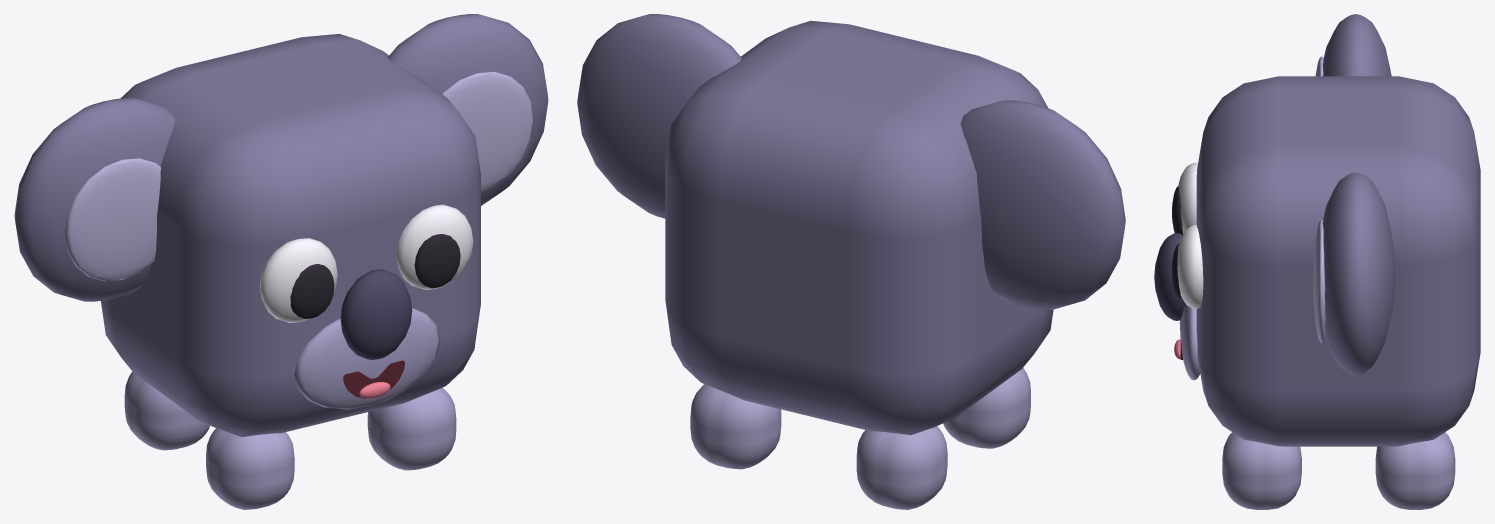
The model's file is pet-koala.glb.
3 views of the same model, side by side, from view 1: azimuth 30°, elevation 25°; view 2: azimuth 150°, elevation 25°; view 3: azimuth 270°, elevation 25° (orthographic). The views are drawn at different scales.
Visible parts, largest first — view 1: body, ear_-1, ear_1, ear_inner_-1, muzzle, ear_inner_1, foot_L_front, foot_R_front, nose, foot_L_back, eye_white_-1, eye_white_1 (+3 smaller); view 2: body, ear_-1, ear_1, foot_L_back, foot_R_back, foot_L_front; view 3: body, ear_1, foot_R_back, foot_R_front, ear_-1, eye_white_1, nose, ear_inner_1, muzzle, eye_white_-1, pupil_-1.
Part boxes in pixels (left/top/right/bottom): body: left=101, top=34, right=480, bottom=436; ear_-1: left=14, top=98, right=175, bottom=301; ear_1: left=387, top=14, right=548, bottom=205; ear_inner_-1: left=65, top=158, right=160, bottom=281; muzzle: left=294, top=308, right=440, bottom=409; ear_inner_1: left=442, top=71, right=534, bottom=191; foot_L_front: left=206, top=428, right=294, bottom=509; foot_R_front: left=367, top=387, right=456, bottom=470; nose: left=340, top=269, right=412, bottom=359; foot_L_back: left=124, top=371, right=209, bottom=450; eye_white_-1: left=260, top=238, right=337, bottom=322; eye_white_1: left=396, top=204, right=473, bottom=289; body: left=665, top=20, right=1053, bottom=434; ear_-1: left=960, top=100, right=1125, bottom=309; ear_1: left=577, top=14, right=742, bottom=218; foot_L_back: left=856, top=426, right=947, bottom=509; foot_R_back: left=690, top=384, right=781, bottom=469; foot_L_front: left=943, top=368, right=1030, bottom=448; body: left=1196, top=76, right=1480, bottom=446; ear_1: left=1322, top=172, right=1395, bottom=375; foot_R_back: left=1375, top=432, right=1455, bottom=509; foot_R_front: left=1222, top=432, right=1301, bottom=509; ear_-1: left=1322, top=14, right=1391, bottom=76; eye_white_1: left=1177, top=225, right=1203, bottom=308; nose: left=1154, top=233, right=1185, bottom=320; ear_inner_1: left=1313, top=219, right=1325, bottom=343; muzzle: left=1179, top=304, right=1200, bottom=380; eye_white_-1: left=1178, top=162, right=1197, bottom=233; pupil_-1: left=1172, top=186, right=1182, bottom=234.
Size of the model in its own units: 2.04 by 1.42 by 1.15.
